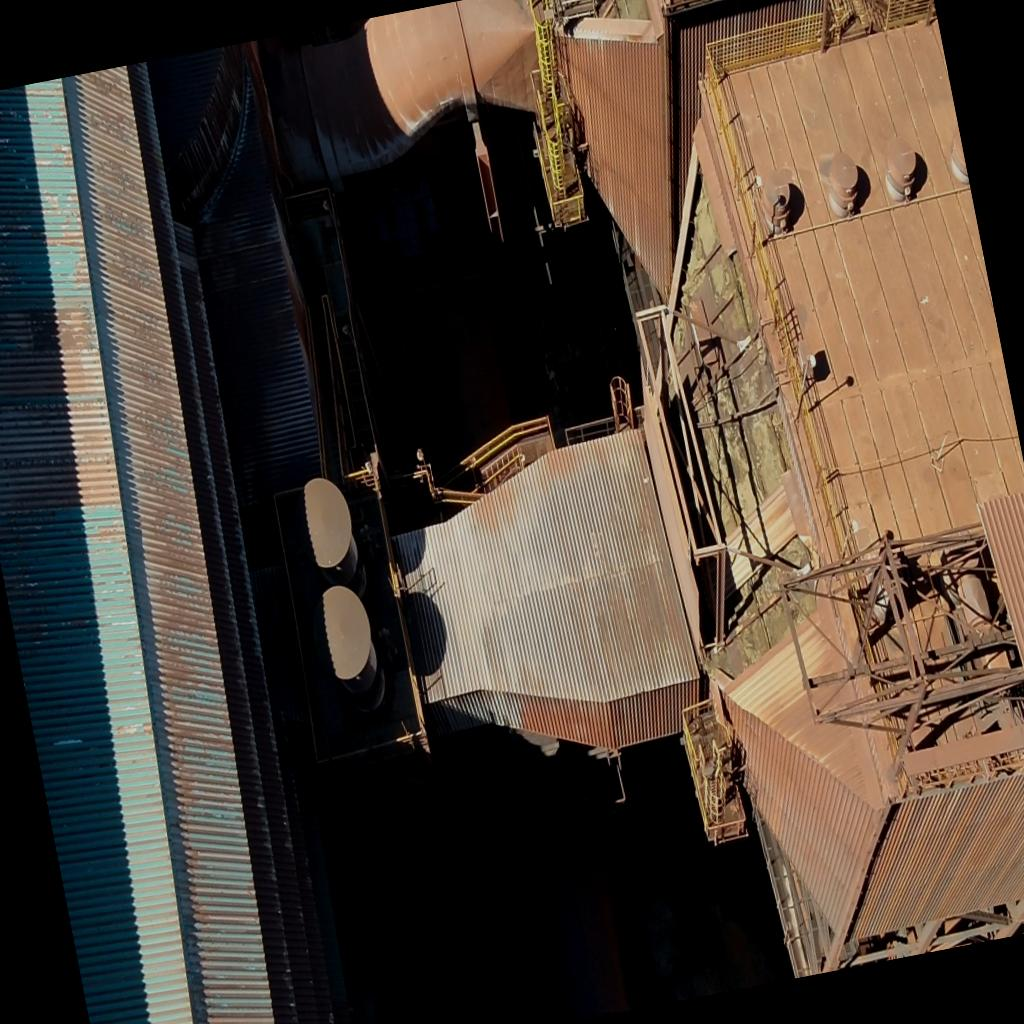Failures: (637, 206, 828, 656)
